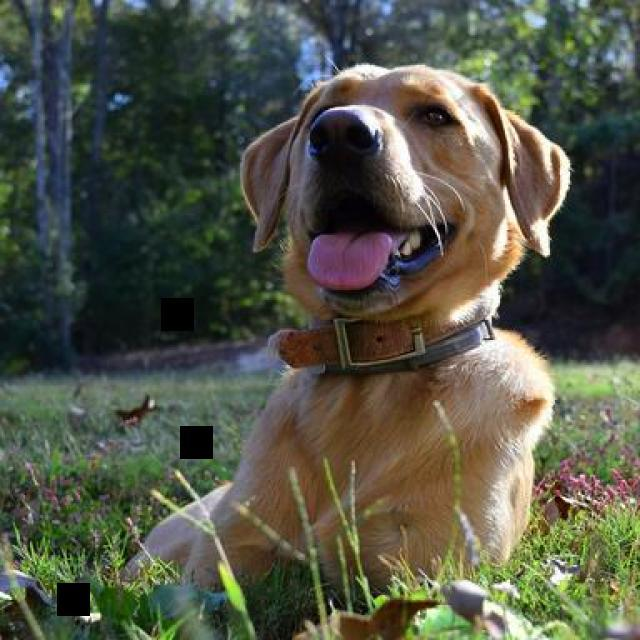adult_dog: (104, 65, 574, 592)
